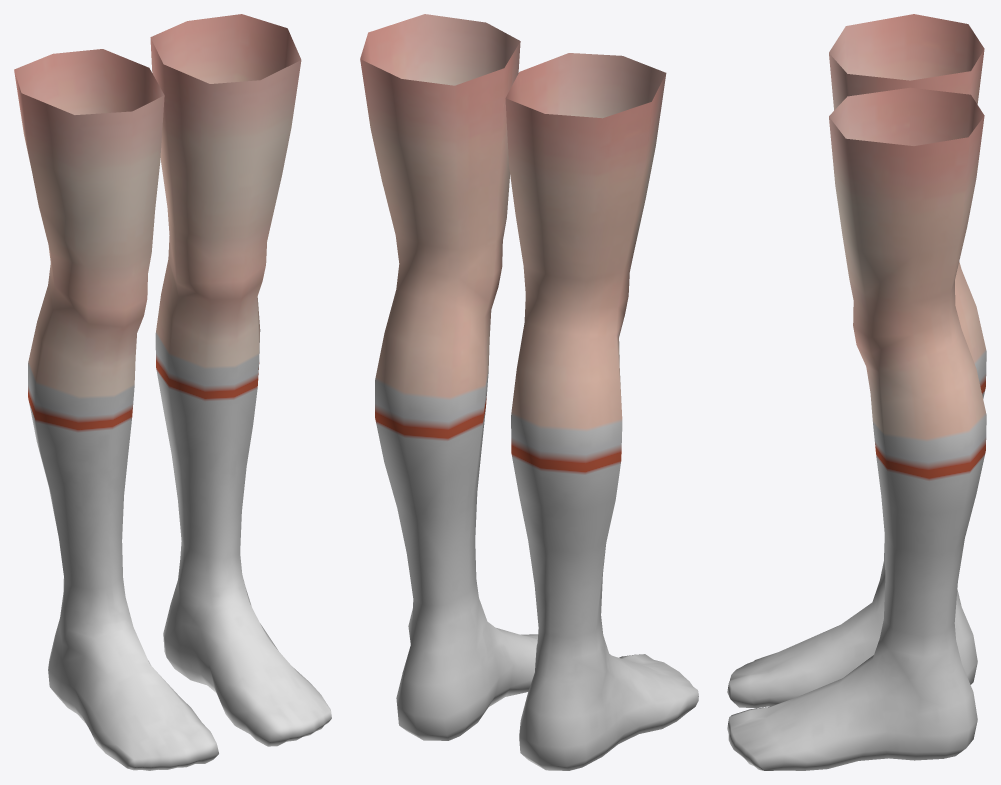
The model's file is p0_lgw0001_00_lgw00.gltf.
3 views of the same model, side by side, from view 1: azimuth 30°, elevation 25°; view 2: azimuth 150°, elevation 25°; view 3: azimuth 270°, elevation 25° (orthographic). The views are drawn at different scales.
Visible parts, largest first — view 1: lgw00_legs02_mesh_shape:legs_skin, lgw00_legs00_mesh_shape:legs, lgw00_legs01_mesh_shape:legs_skin, lgw00_legs01_mesh_shape:legs; view 2: lgw00_legs02_mesh_shape:legs_skin, lgw00_legs01_mesh_shape:legs_skin, lgw00_legs00_mesh_shape:legs, lgw00_legs01_mesh_shape:legs; view 3: lgw00_legs00_mesh_shape:legs, lgw00_legs02_mesh_shape:legs_skin, lgw00_legs01_mesh_shape:legs_skin, lgw00_legs01_mesh_shape:legs.
Part boxes in pixels (x1,y1,x2,y2): lgw00_legs02_mesh_shape:legs_skin: (14, 14, 301, 224); lgw00_legs00_mesh_shape:legs: (48, 500, 331, 770); lgw00_legs01_mesh_shape:legs_skin: (28, 156, 281, 399); lgw00_legs01_mesh_shape:legs: (28, 334, 259, 549); lgw00_legs02_mesh_shape:legs_skin: (360, 14, 666, 231); lgw00_legs01_mesh_shape:legs_skin: (375, 171, 645, 432); lgw00_legs00_mesh_shape:legs: (396, 541, 698, 770); lgw00_legs01_mesh_shape:legs: (375, 373, 622, 594); lgw00_legs00_mesh_shape:legs: (727, 536, 977, 770); lgw00_legs02_mesh_shape:legs_skin: (829, 14, 984, 256); lgw00_legs01_mesh_shape:legs_skin: (842, 228, 986, 442); lgw00_legs01_mesh_shape:legs: (873, 352, 986, 596).
Size of what is drawn, in the model's own units: 0.2758 by 0.6251 by 0.2287.
2 materials, 2 textured.
